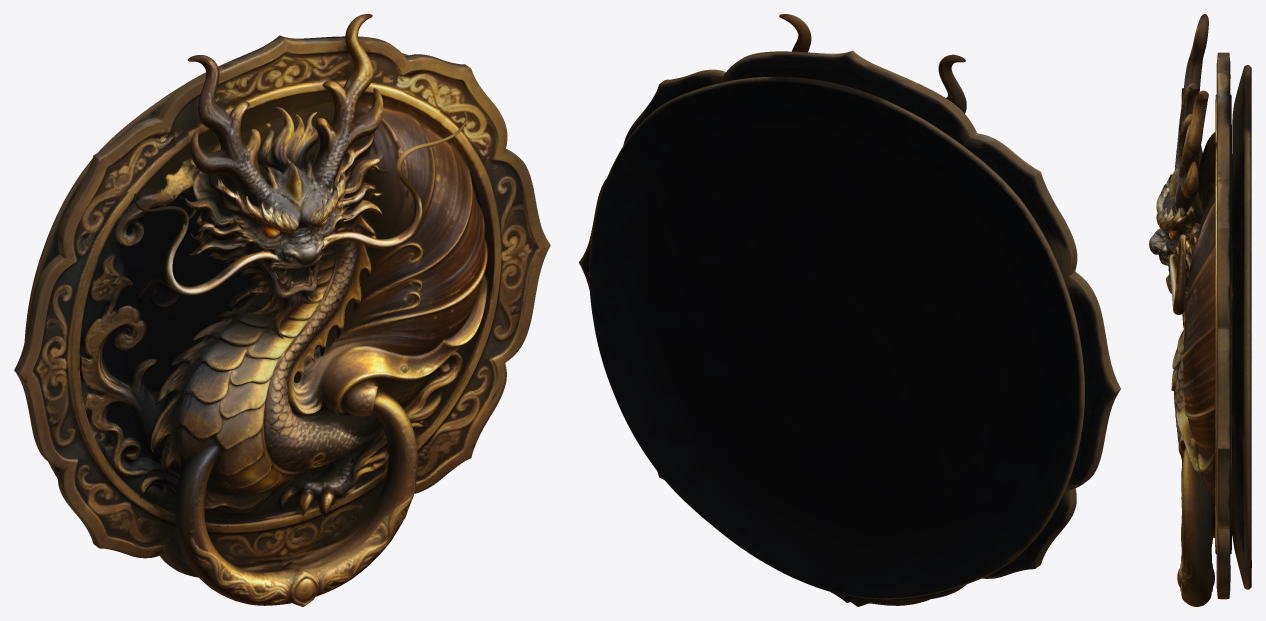
The model's file is jiao-tu.glb.
3 views of the same model, side by side, from view 1: azimuth 30°, elevation 25°; view 2: azimuth 150°, elevation 25°; view 3: azimuth 270°, elevation 25° (orthographic). The views are drawn at different scales.
Visible parts, largest first — view 1: node_0; view 2: node_0; view 3: node_0.
Boxes of the visible parts, bbox=[...] form: node_0: bbox=[14, 14, 550, 606]; node_0: bbox=[579, 14, 1120, 606]; node_0: bbox=[1149, 14, 1251, 606].
Bounding box in the file's own units: 1.1 × 1.13 × 0.1961.
Materials: 1 (1 with a texture image).
